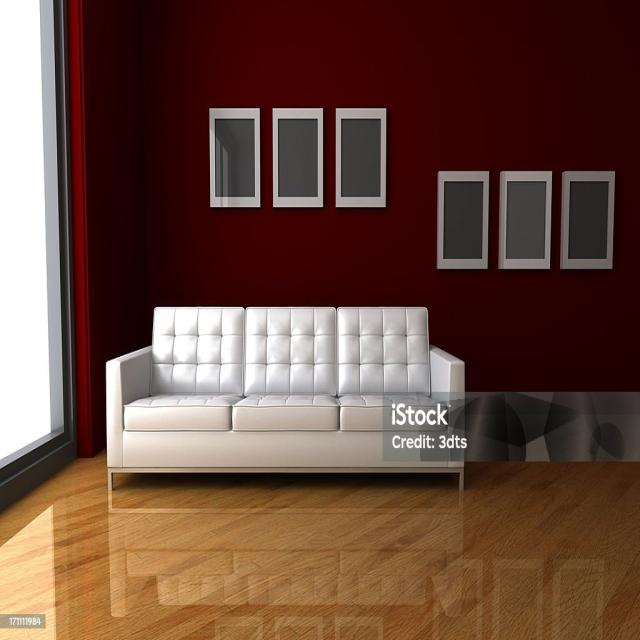back_cushion: (151, 307, 431, 399)
base: (109, 430, 464, 471)
left_arm: (430, 347, 466, 465)
legs: (458, 470, 463, 491), (108, 470, 113, 491)
right_arm: (106, 347, 151, 467)
seat_cushion: (124, 394, 449, 434)
stallion-sofa1: (106, 307, 472, 490)
